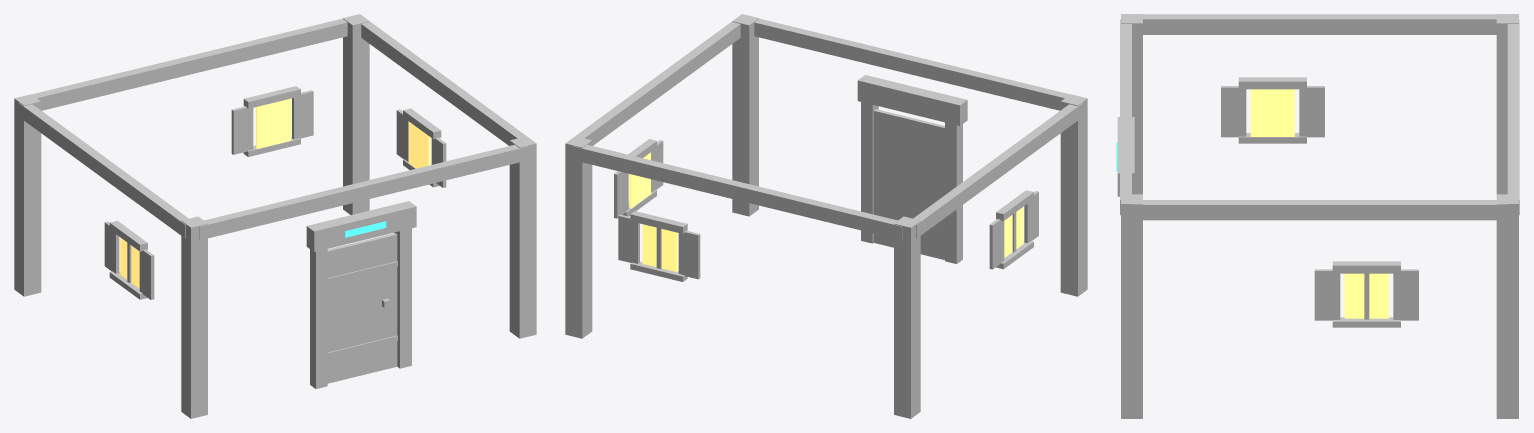
File: rh_hut_trim.glb
The picture shows the model from 3 angles, left to right: view 1: azimuth 30°, elevation 25°; view 2: azimuth 150°, elevation 25°; view 3: azimuth 270°, elevation 25°; orthographic projection. The views are drawn at different scales.
Parts seen in each view (by area): view 1: rh_hut_trim; view 2: rh_hut_trim; view 3: rh_hut_trim.
Part boxes in pixels (x1,y1,x2,y2): rh_hut_trim: (14, 14, 536, 418); rh_hut_trim: (565, 14, 1087, 418); rh_hut_trim: (1116, 14, 1519, 418).
Size of the model in its own units: 5.28 by 2.79 by 4.72.
